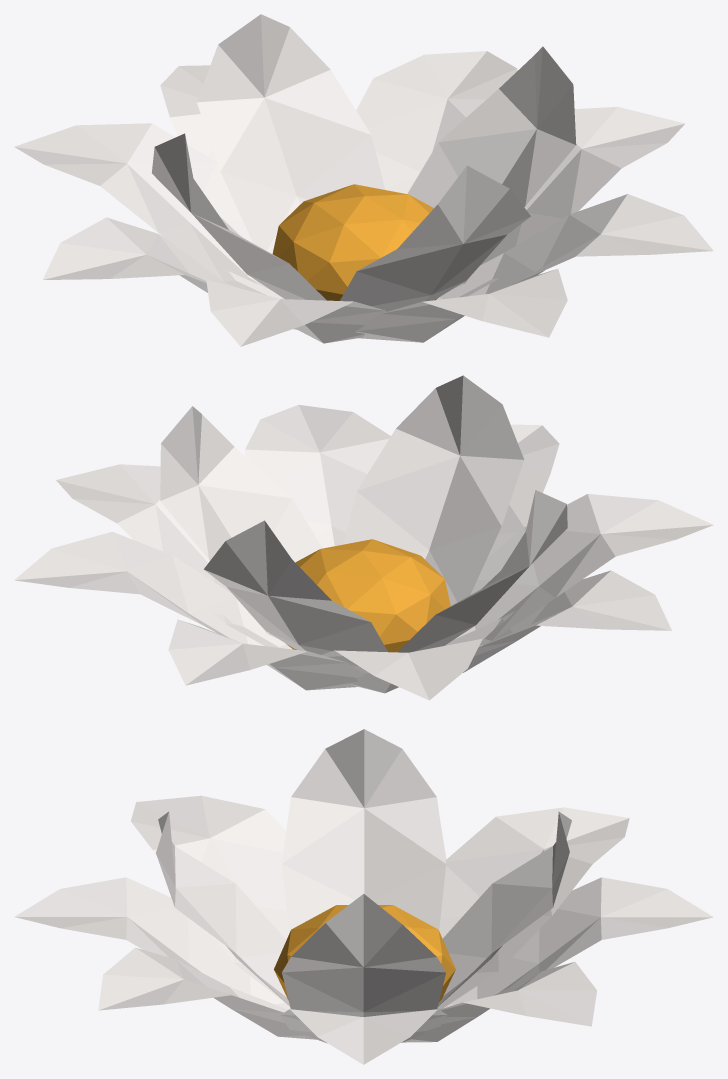
File: SFV_Flower_005.fbx
3 renders of one model, top to bottom at view 1: azimuth 30°, elevation 25°; view 2: azimuth 150°, elevation 25°; view 3: azimuth 270°, elevation 25°, orthographic. The views are drawn at different scales.
Parts seen in each view (by area): view 1: SFV_Flower_005; view 2: SFV_Flower_005; view 3: SFV_Flower_005.
Part boxes in pixels (x1,y1,x2,y2): SFV_Flower_005: (14, 14, 713, 346); SFV_Flower_005: (14, 375, 713, 700); SFV_Flower_005: (14, 729, 713, 1064).
Size of the model in its own units: 25.06 by 8.81 by 25.06.
